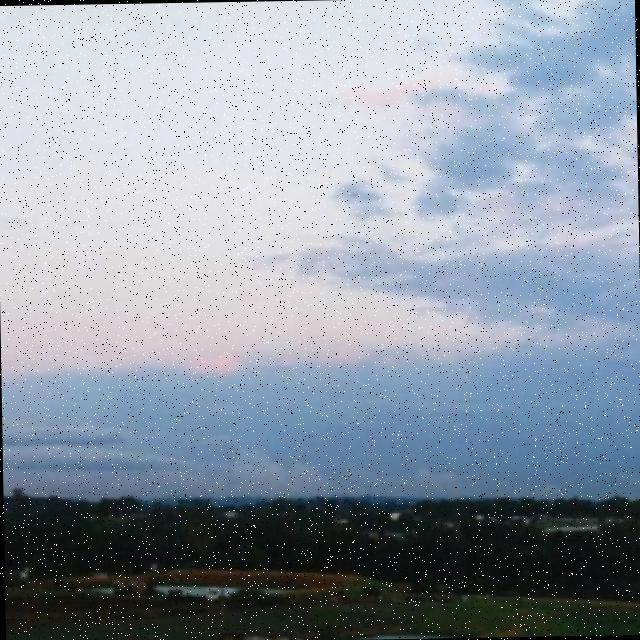Sc: (244, 1, 640, 359)
